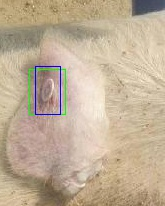text: (29, 69, 65, 114)
